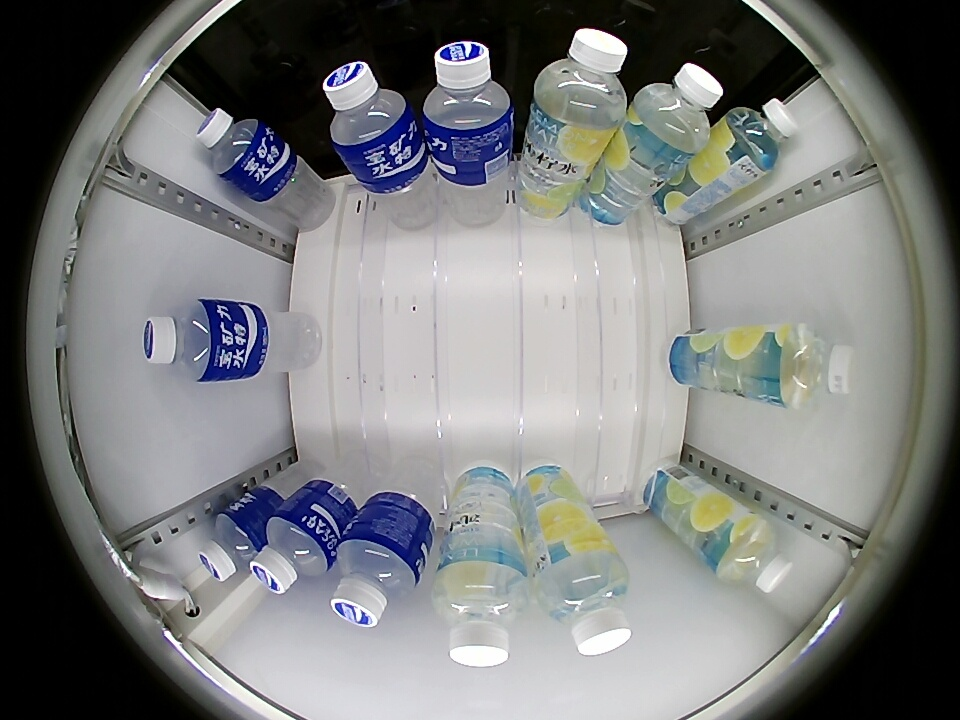baokuangli: (422, 40, 514, 149), (330, 526, 425, 629), (323, 61, 417, 164), (142, 299, 231, 384), (251, 510, 336, 595), (196, 107, 274, 186), (199, 504, 266, 582)
qinningshui: (531, 26, 630, 141), (432, 558, 530, 669), (535, 550, 633, 657), (631, 61, 724, 155), (772, 325, 856, 411), (712, 515, 793, 593), (721, 98, 799, 174)
